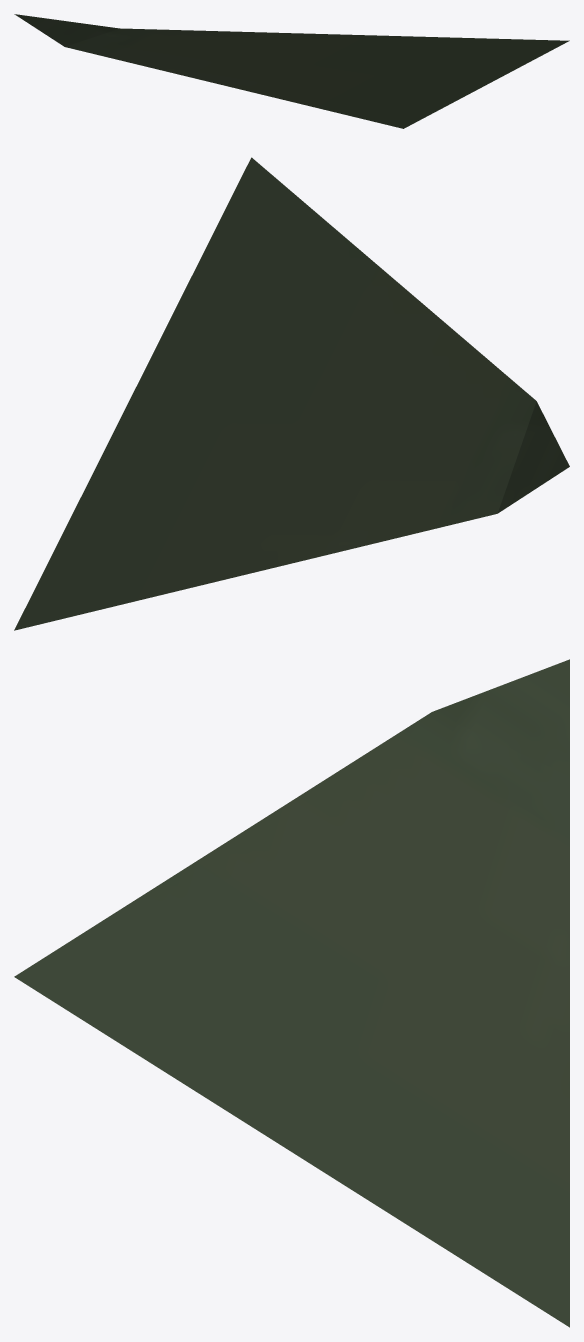
The picture shows the model from 3 angles, top to bottom: view 1: azimuth 30°, elevation 25°; view 2: azimuth 150°, elevation 25°; view 3: azimuth 270°, elevation 25°; orthographic projection. The views are drawn at different scales.
Bounding box in the file's own units: 0.429 × 0.2209 × 0.3173.
Materials: 1 (1 with a texture image).
